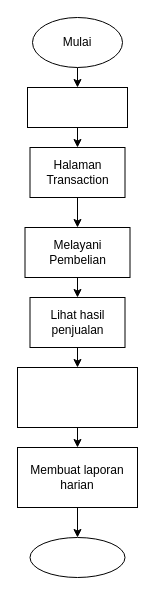
Image size: 155x595. Some labels were removed from this diagram. Each missing label, with the box of its shape:
Login: (26, 86, 128, 128)
Selesai: (29, 536, 125, 578)
Sinkronisasi hasil dengan uang di kasir: (16, 366, 138, 428)
